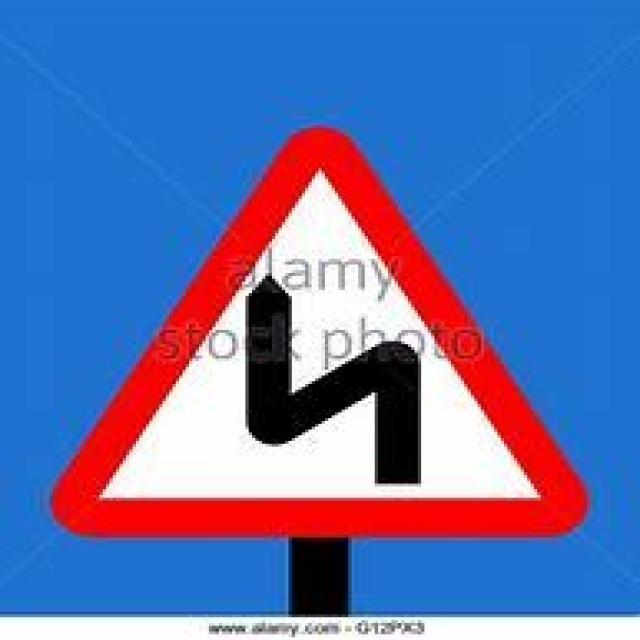left reverse bend: (45, 119, 593, 543)
